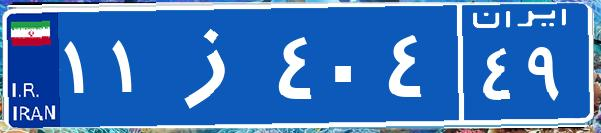0: (330, 28, 385, 110)
1: (57, 26, 110, 107), (110, 28, 158, 105)
4: (385, 28, 445, 110), (273, 28, 330, 110), (475, 38, 525, 113)
9: (525, 38, 570, 115)
ز: (158, 15, 273, 115)
